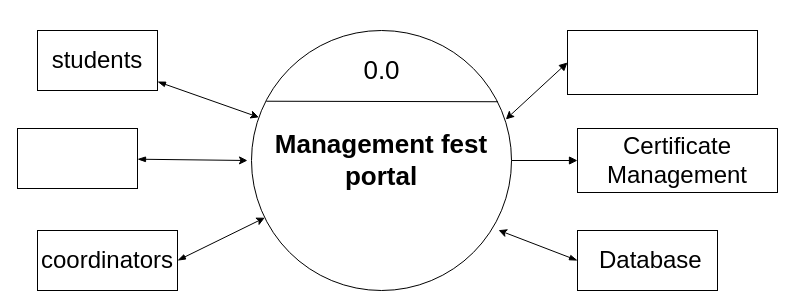
Image size: 795x308. Some labels were removed from this diagram. The centre of each missing label's shape, as x and y in pixels:
"admins" goes at pixel 77 158.
"Event Registration" goes at pixel 662 62.
